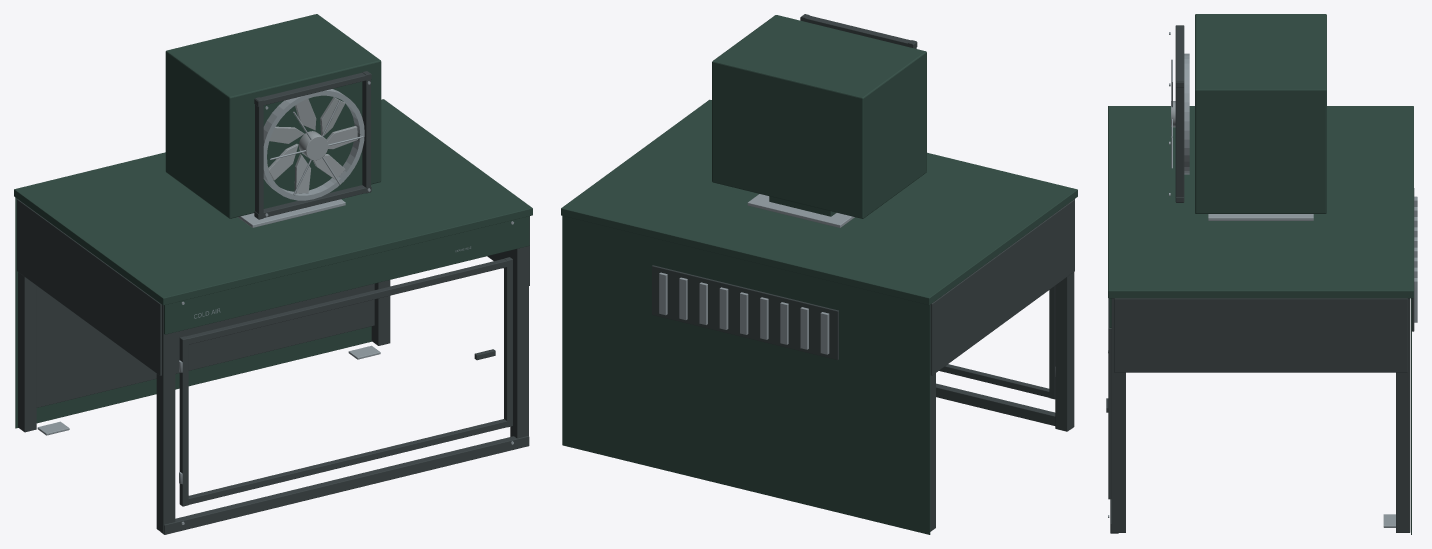
File: dryer_module.glb
The picture shows the model from 3 angles, left to right: view 1: azimuth 30°, elevation 25°; view 2: azimuth 150°, elevation 25°; view 3: azimuth 270°, elevation 25°; orthographic projection. The views are drawn at different scales.
Parts seen in each view (by area): view 1: AeroSense_ColdDryerModule__deep_teal_panel, AeroSense_ColdDryerModule__graphite_frame, Rear_Liner_Cutaway, Dryer_Door_Pivot__graphite_frame, AeroSense_ColdDryerModule__satin_stainless, Dryer_Fan_Pivot__fan_satin_silver; view 2: AeroSense_ColdDryerModule__deep_teal_panel, AeroSense_ColdDryerModule__graphite_frame, AeroSense_ColdDryerModule__satin_stainless, Dryer_Door_Pivot__graphite_frame; view 3: AeroSense_ColdDryerModule__deep_teal_panel, AeroSense_ColdDryerModule__graphite_frame, AeroSense_ColdDryerModule__satin_stainless, Dryer_Door_Pivot__graphite_frame.
Boxes of the visible parts, <box> form: AeroSense_ColdDryerModule__deep_teal_panel: <box>14,14,532,428</box>; AeroSense_ColdDryerModule__graphite_frame: <box>17,71,529,534</box>; Rear_Liner_Cutaway: <box>36,283,374,407</box>; Dryer_Door_Pivot__graphite_frame: <box>179,257,512,506</box>; AeroSense_ColdDryerModule__satin_stainless: <box>37,81,513,524</box>; Dryer_Fan_Pivot__fan_satin_silver: <box>268,97,357,193</box>; AeroSense_ColdDryerModule__deep_teal_panel: <box>561,15,1077,534</box>; AeroSense_ColdDryerModule__graphite_frame: <box>652,14,1074,531</box>; AeroSense_ColdDryerModule__satin_stainless: <box>659,194,854,354</box>; Dryer_Door_Pivot__graphite_frame: <box>939,286,1055,399</box>; AeroSense_ColdDryerModule__deep_teal_panel: <box>1108,14,1413,534</box>; AeroSense_ColdDryerModule__graphite_frame: <box>1110,25,1414,533</box>; AeroSense_ColdDryerModule__satin_stainless: <box>1108,32,1417,527</box>; Dryer_Door_Pivot__graphite_frame: <box>1106,298,1111,499</box>.
Size of the model in its own units: 0.73 by 0.723 by 0.5195.
